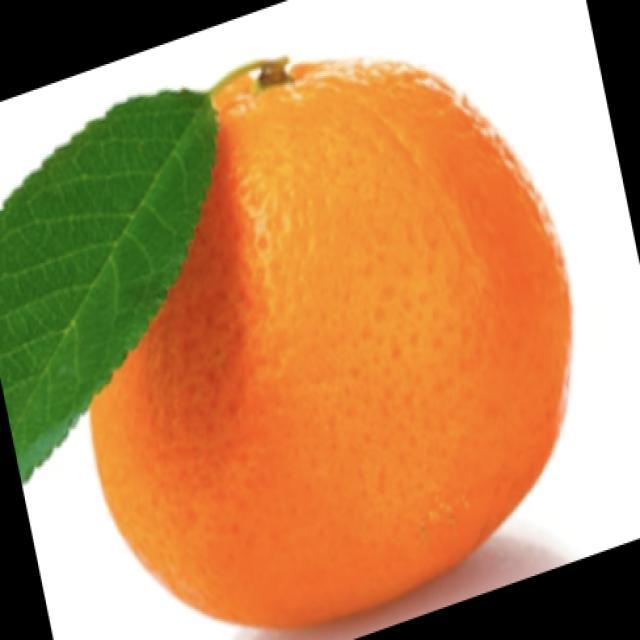Orange: (87, 53, 573, 632)
